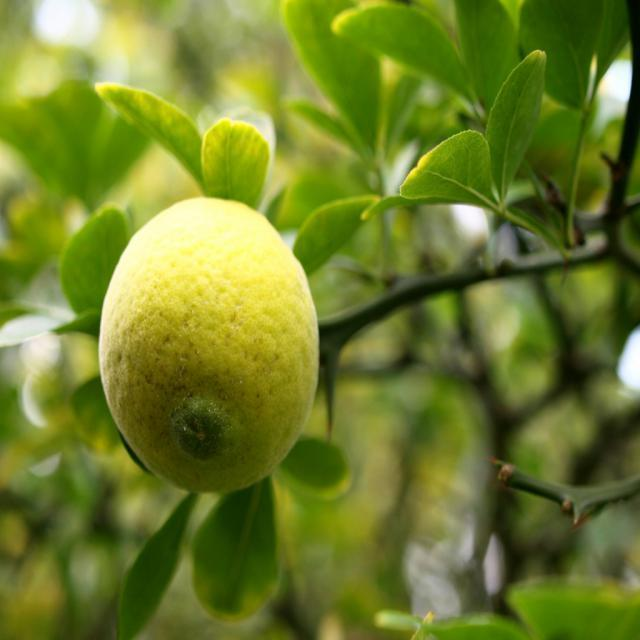Lemon: (99, 190, 325, 499)
